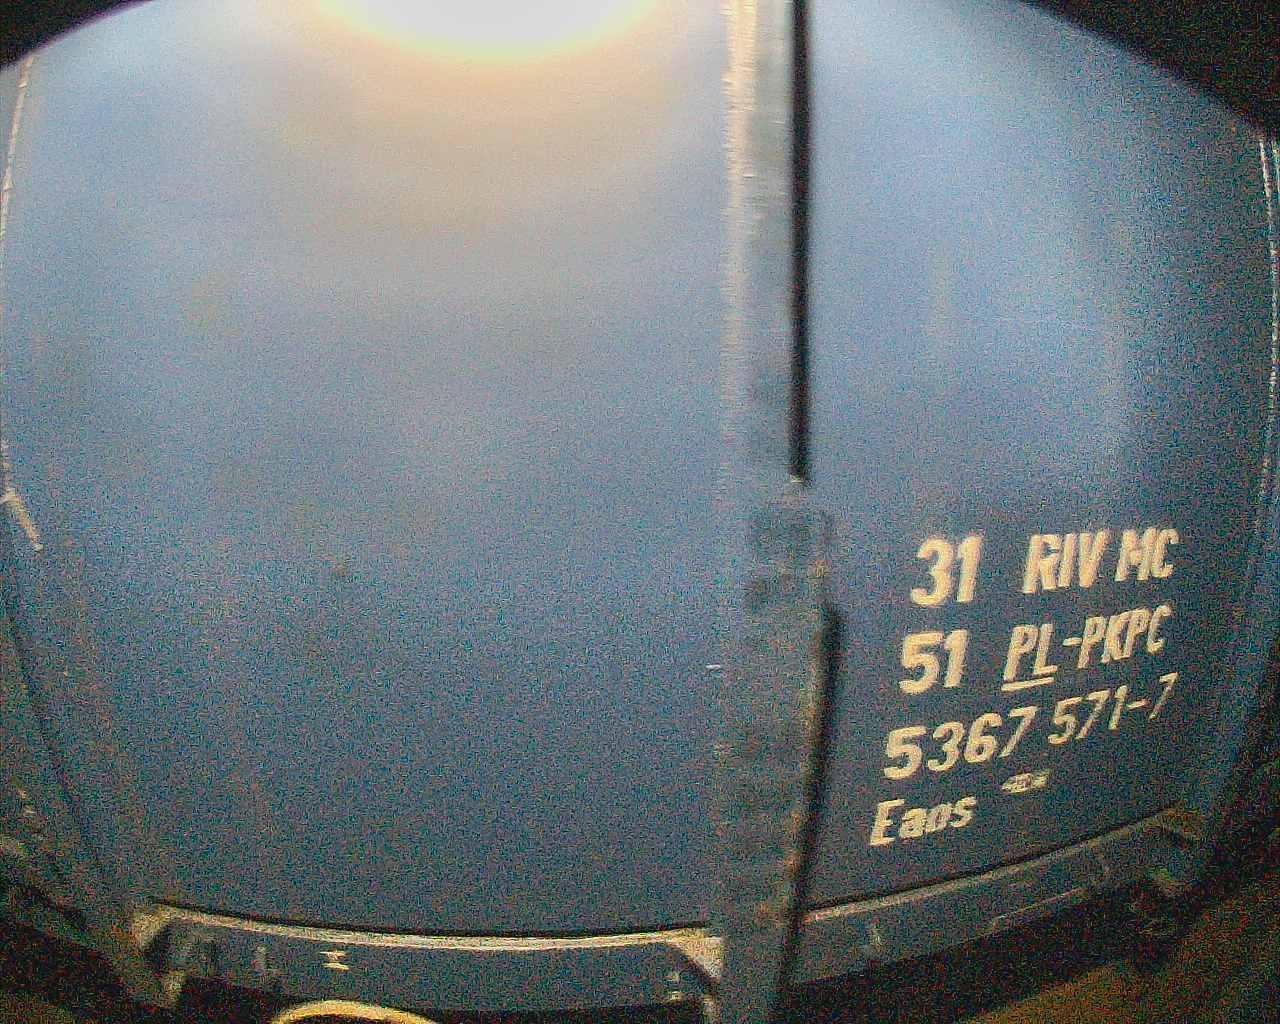UIC: (862, 525, 1183, 851)
